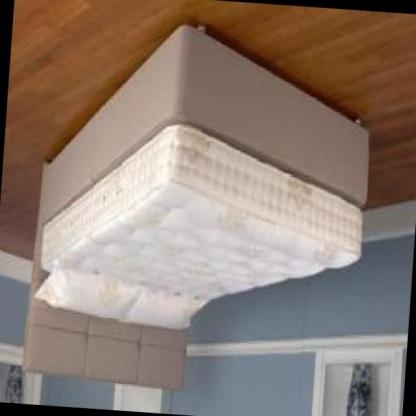Bed: (12, 2, 392, 410)
